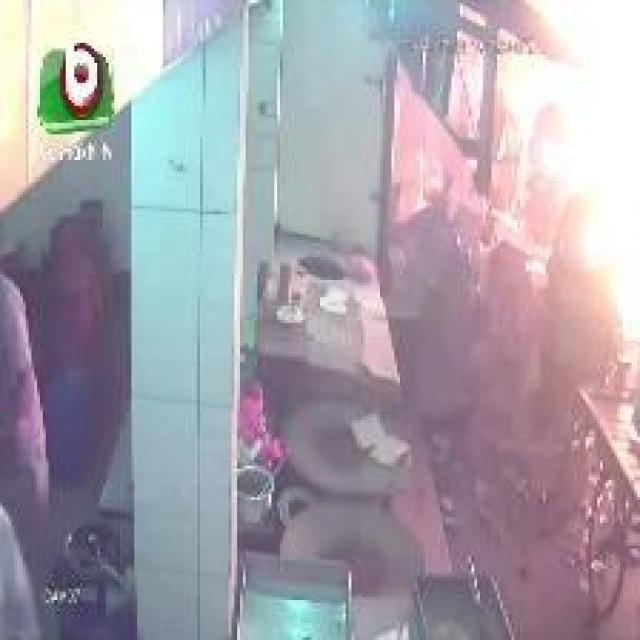smoke: (502, 3, 638, 340)
